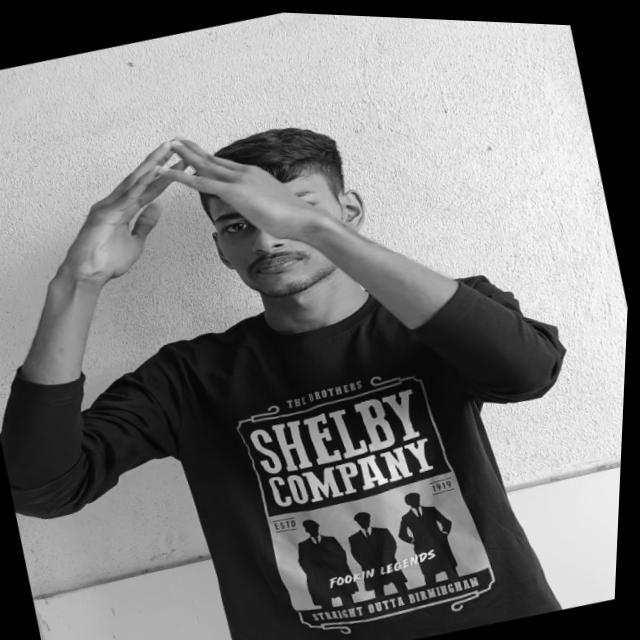Home: (41, 97, 318, 303)
